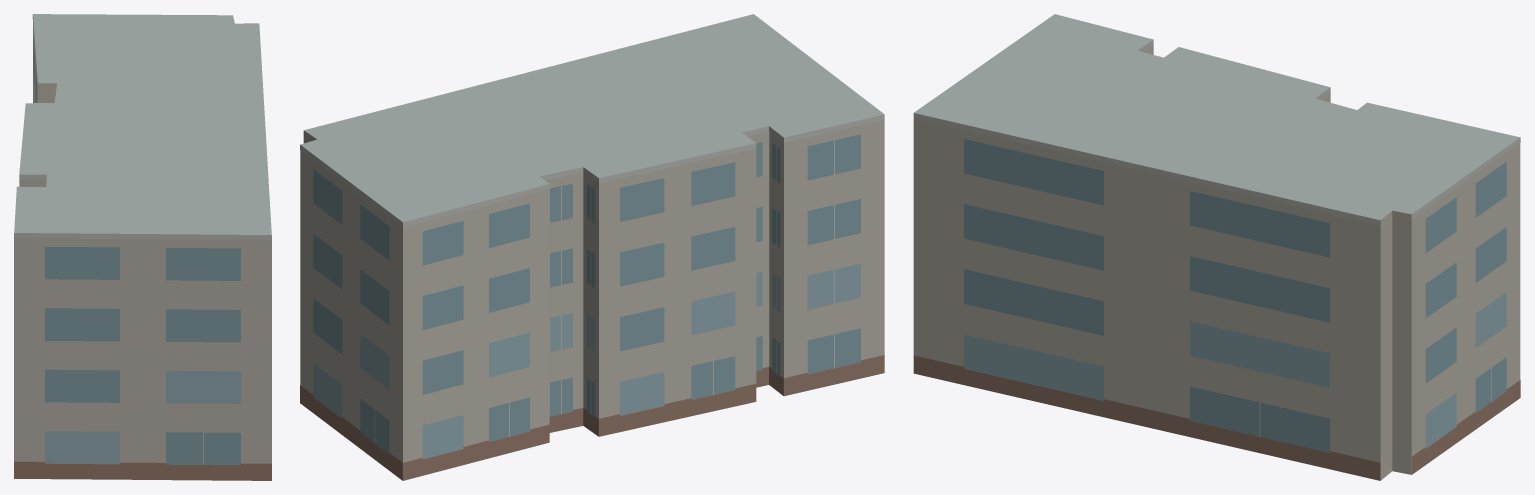
Rendered from survey-upis-32748999.glb.
3 views of the same model, side by side, from view 1: azimuth 30°, elevation 25°; view 2: azimuth 150°, elevation 25°; view 3: azimuth 270°, elevation 25° (orthographic). The views are drawn at different scales.
Visible parts, largest first — view 1: survey-upis-32748999.tmp; view 2: survey-upis-32748999.tmp; view 3: survey-upis-32748999.tmp.
Boxes of the visible parts, x1=… form: survey-upis-32748999.tmp: x1=14, y1=14, x2=271, y2=480; survey-upis-32748999.tmp: x1=300, y1=14, x2=884, y2=480; survey-upis-32748999.tmp: x1=913, y1=14, x2=1520, y2=480.
Size of the model in its own units: 20.21 by 11.9 by 25.12.
